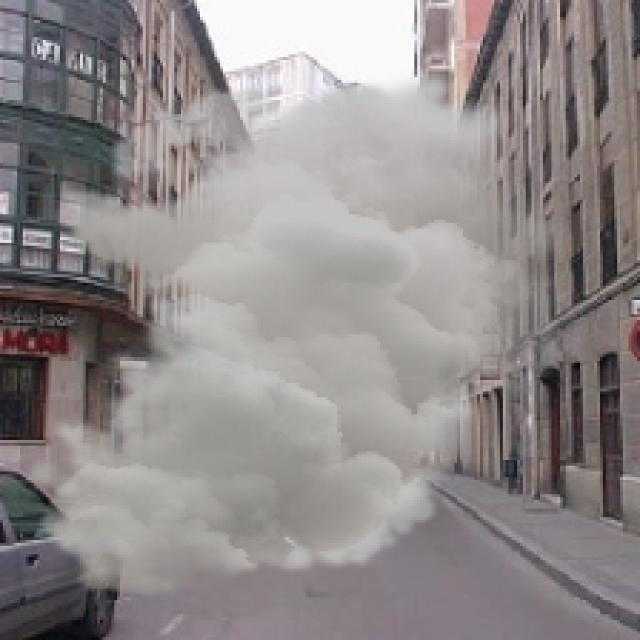Smoke: (17, 69, 586, 600)
